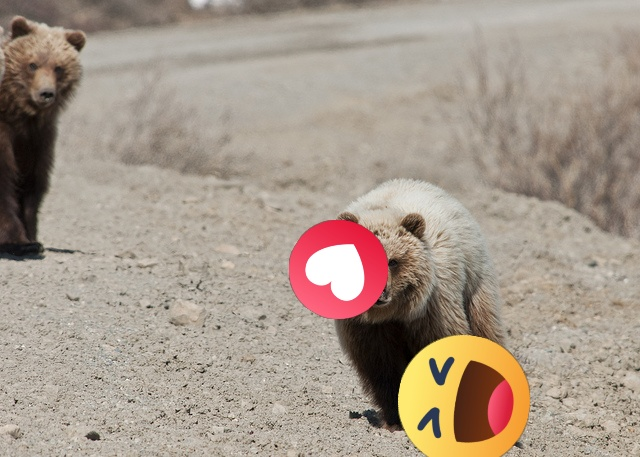haha: (398, 335, 530, 457)
love: (289, 220, 388, 319)
